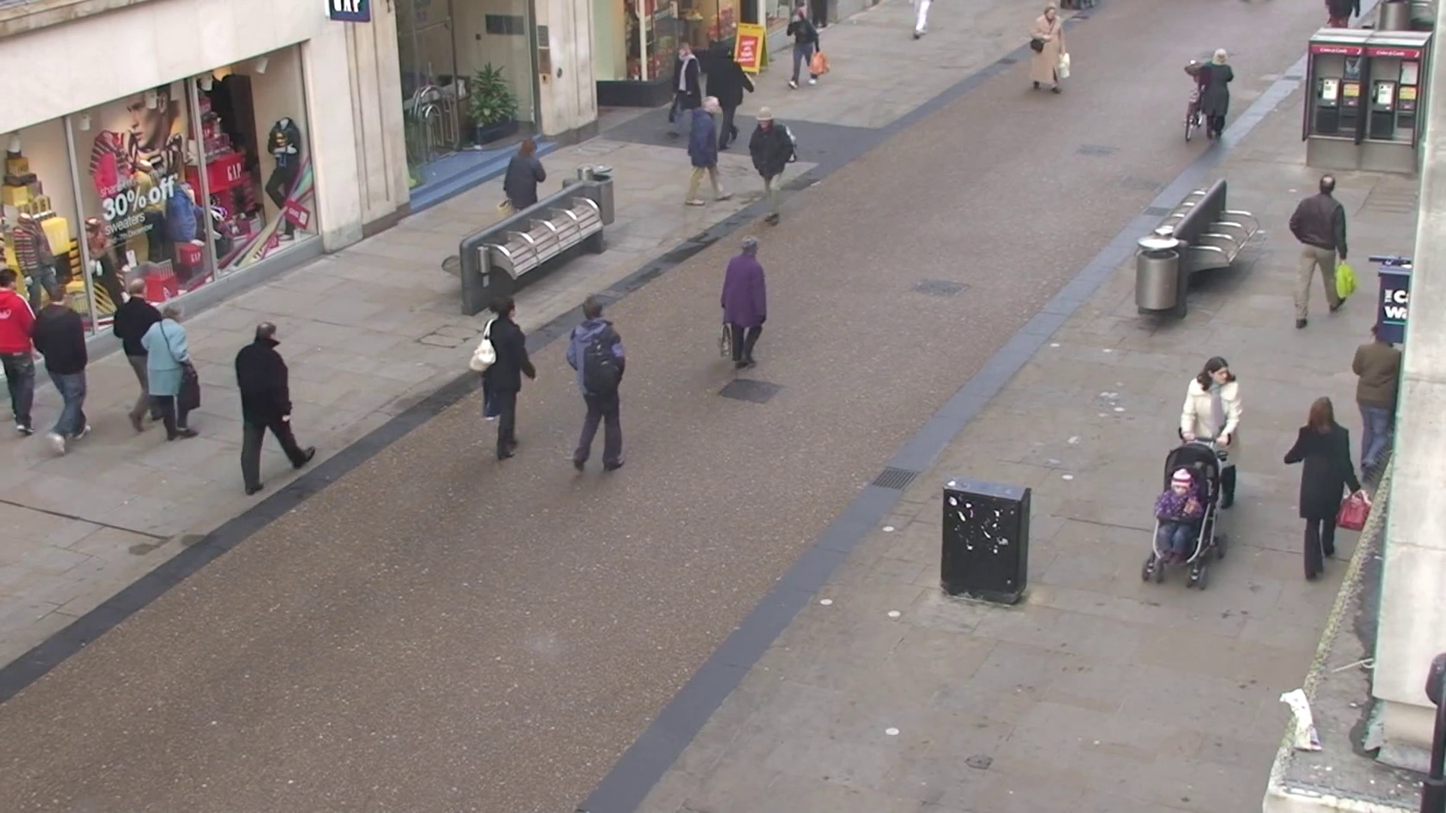person: (1282, 396, 1365, 581), (234, 321, 313, 493), (566, 295, 627, 476), (758, 0, 855, 103), (475, 299, 535, 462), (1289, 172, 1351, 327), (35, 284, 94, 445), (1185, 356, 1243, 509), (1350, 321, 1402, 486), (139, 299, 197, 439), (113, 282, 161, 434), (0, 268, 42, 437), (1019, 8, 1081, 113), (720, 239, 768, 367), (748, 110, 798, 224), (655, 48, 700, 155), (683, 96, 724, 206), (501, 136, 547, 213), (1199, 47, 1235, 137)
